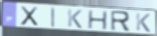H: (87, 10, 109, 31)
I: (50, 7, 56, 29)
K: (135, 12, 152, 33), (67, 8, 83, 29)
R: (110, 10, 132, 33)
X: (19, 5, 40, 27)
